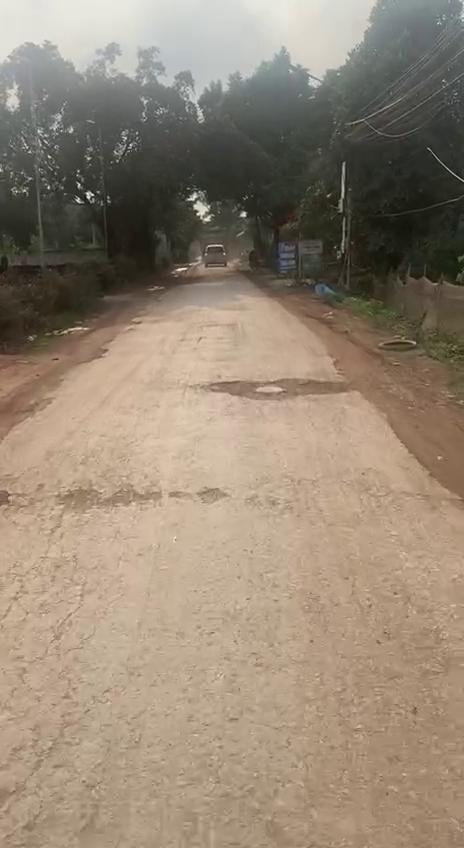pothole: (197, 368, 354, 406)
